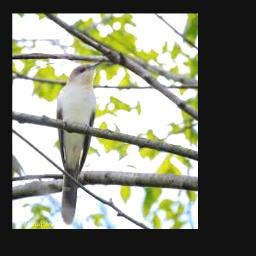Cuckoo: (57, 62, 103, 224)
